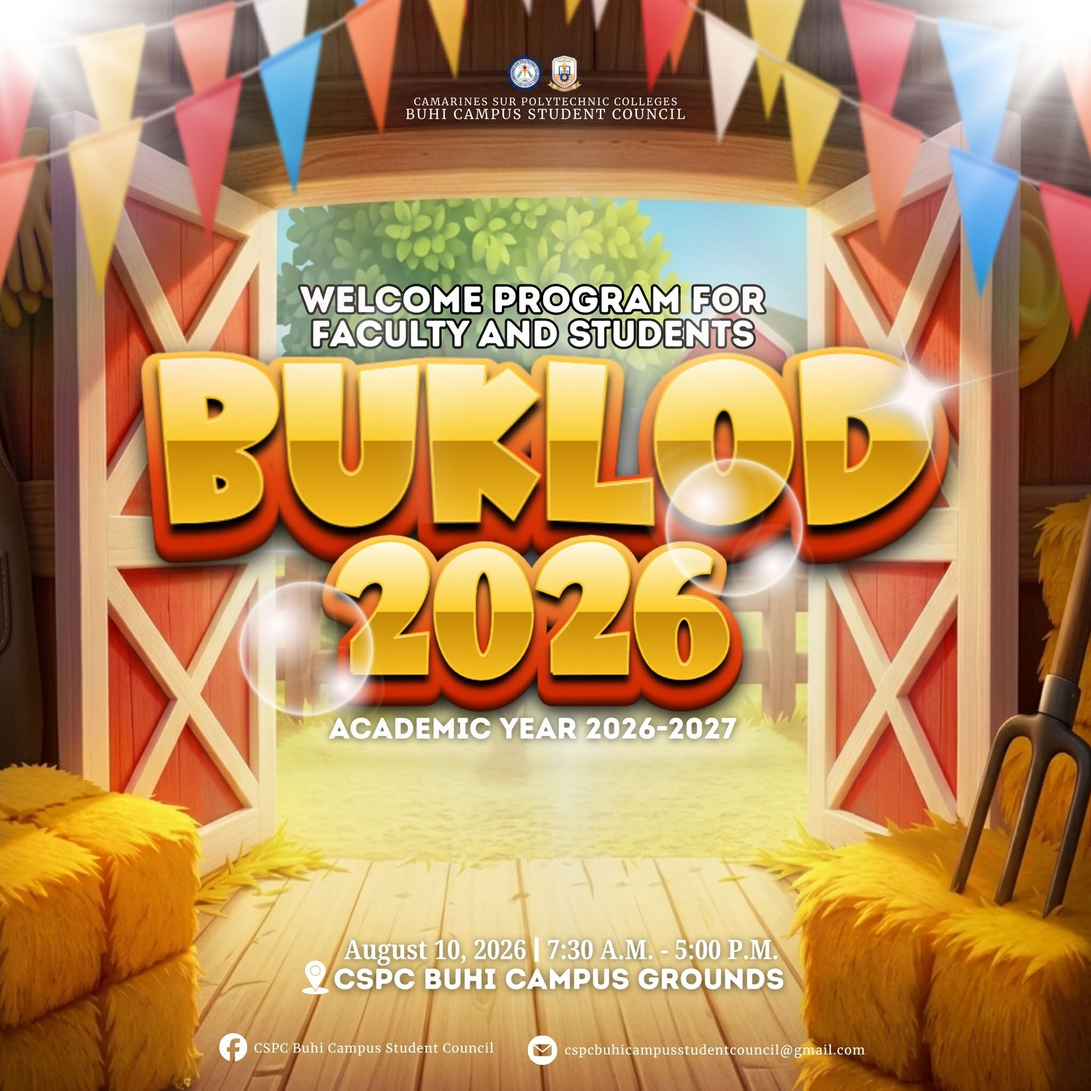embellishment: (0, 0, 1090, 341), (663, 459, 804, 595), (237, 579, 374, 714), (864, 364, 969, 437), (527, 1036, 558, 1065), (301, 961, 328, 994), (219, 1033, 248, 1062)
text: (137, 347, 954, 711), (298, 283, 767, 348), (343, 938, 777, 963), (335, 968, 785, 990), (328, 717, 737, 740), (405, 95, 684, 121), (564, 1043, 864, 1057), (254, 1042, 493, 1055)
underlay: (141, 345, 954, 712)
